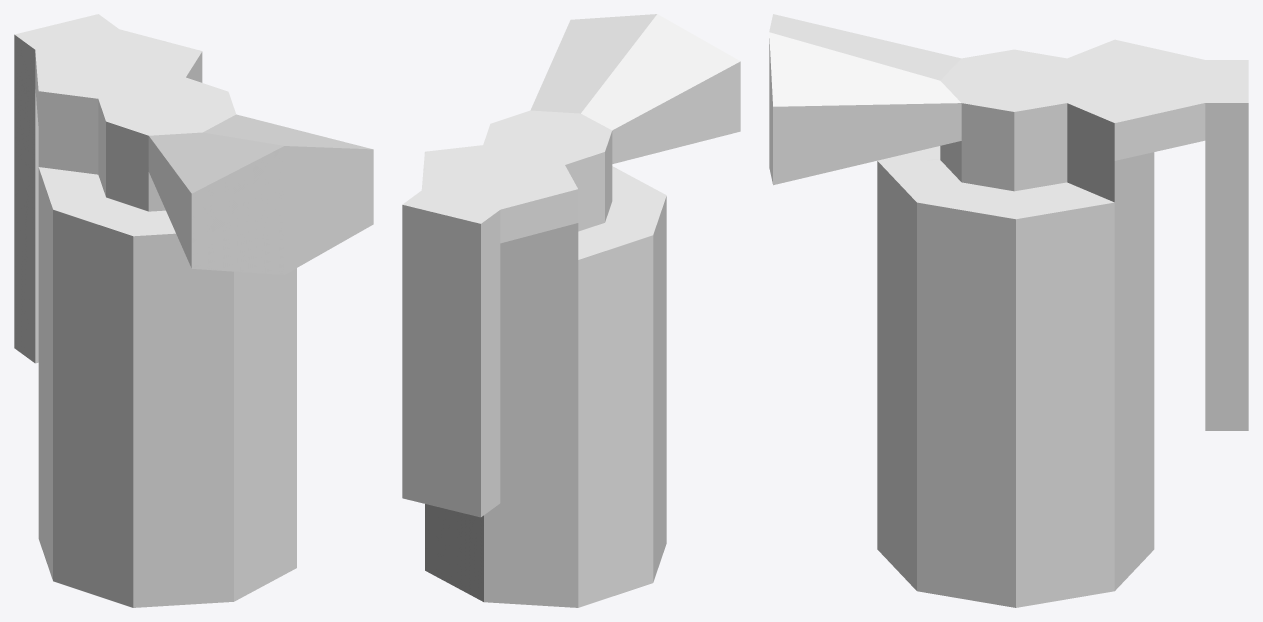
File: FireEX_Mesh.fbx
The picture shows the model from 3 angles, left to right: view 1: azimuth 30°, elevation 25°; view 2: azimuth 150°, elevation 25°; view 3: azimuth 270°, elevation 25°; orthographic projection. The views are drawn at different scales.
Parts seen in each view (by area): view 1: FireEx_Mesh; view 2: FireEx_Mesh; view 3: FireEx_Mesh.
Boxes of the visible parts, x1,y1,x2,y2 form: FireEx_Mesh: (14, 14, 373, 607); FireEx_Mesh: (402, 14, 740, 607); FireEx_Mesh: (769, 14, 1248, 607).
Bounding box in the file's own units: 0.6459 × 1.33 × 1.12.
